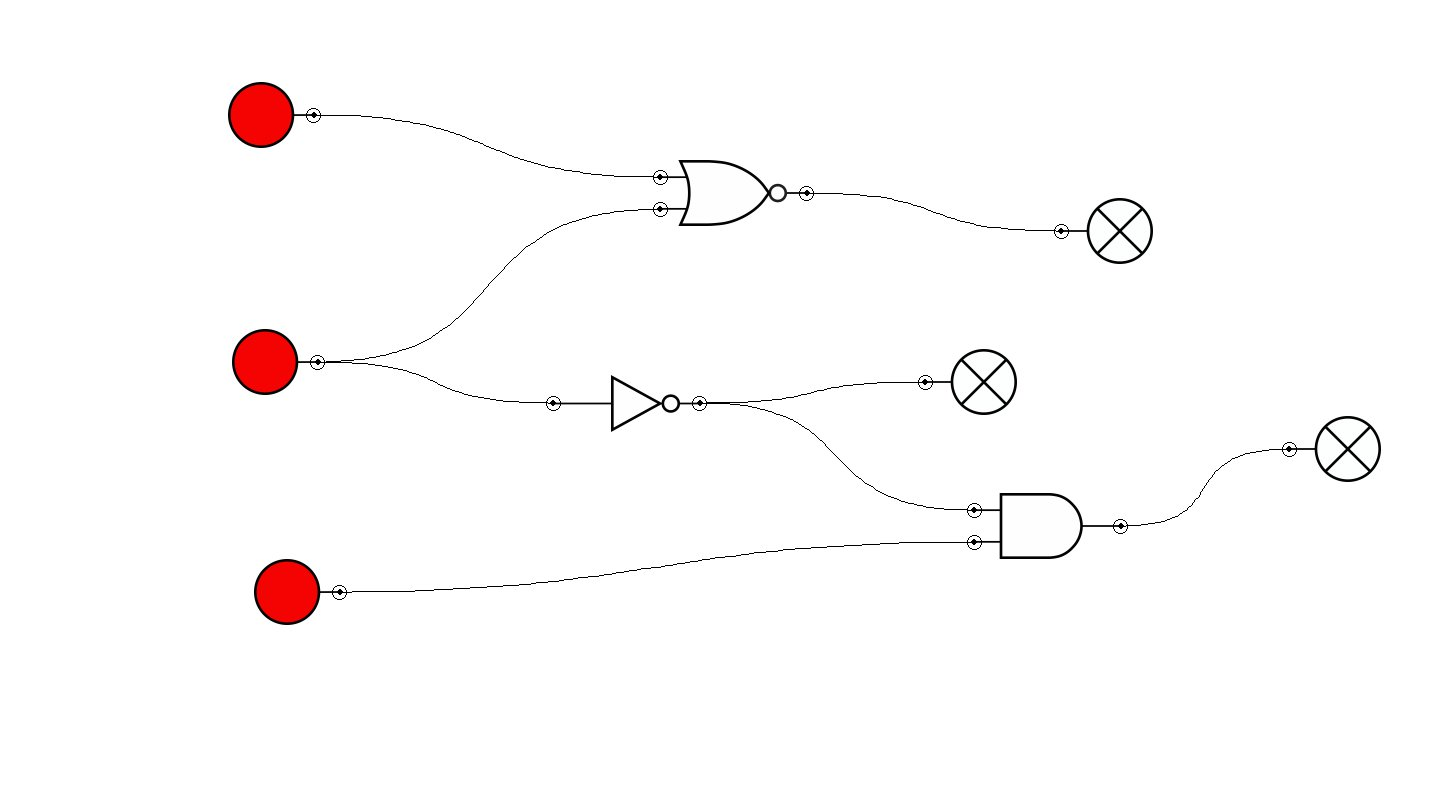and: (967, 493, 1128, 559)
bulb: (1054, 198, 1153, 264), (918, 349, 1017, 415), (1282, 416, 1381, 482)
nor: (653, 160, 814, 226)
not: (546, 375, 707, 432)
switch_False: (232, 329, 325, 395), (254, 559, 347, 625), (228, 82, 321, 148)
